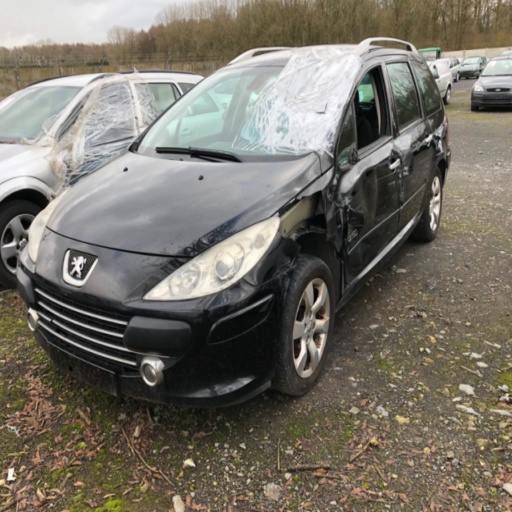dent: (347, 150, 404, 241), (282, 43, 357, 71)
scratch: (374, 168, 397, 180), (418, 157, 429, 163), (387, 179, 398, 185)
